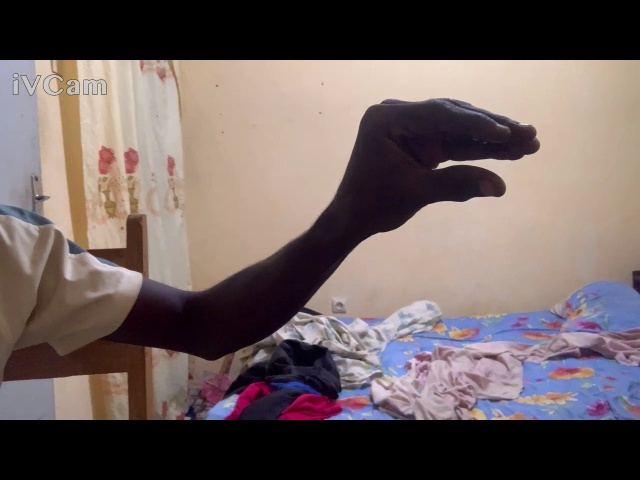non: (349, 94, 550, 241)
